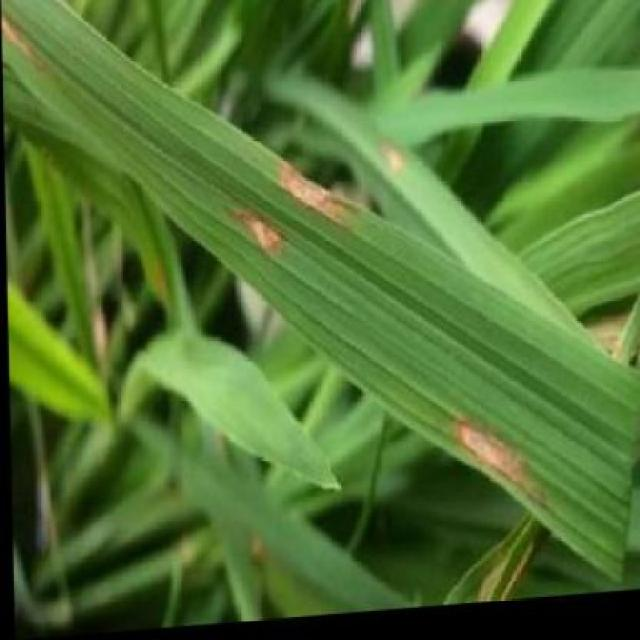Bacterial_Leaf_Blight: (425, 378, 569, 547), (267, 118, 391, 248), (213, 175, 298, 296), (1, 12, 61, 96)
